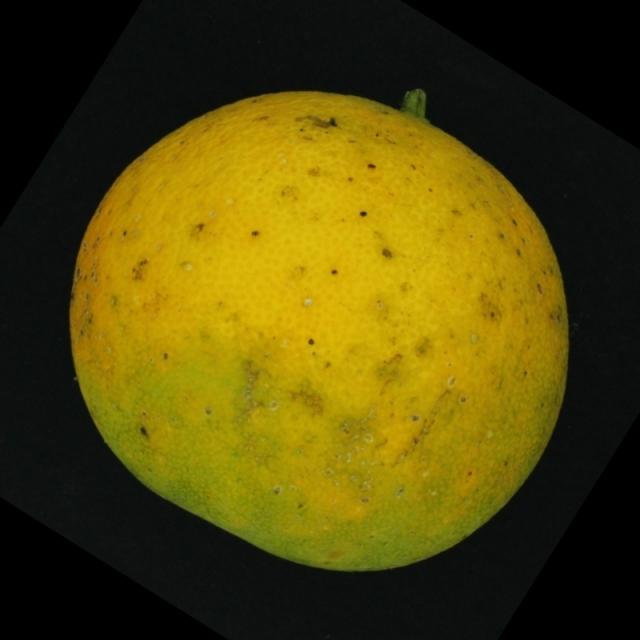grenning: (54, 64, 584, 584)
